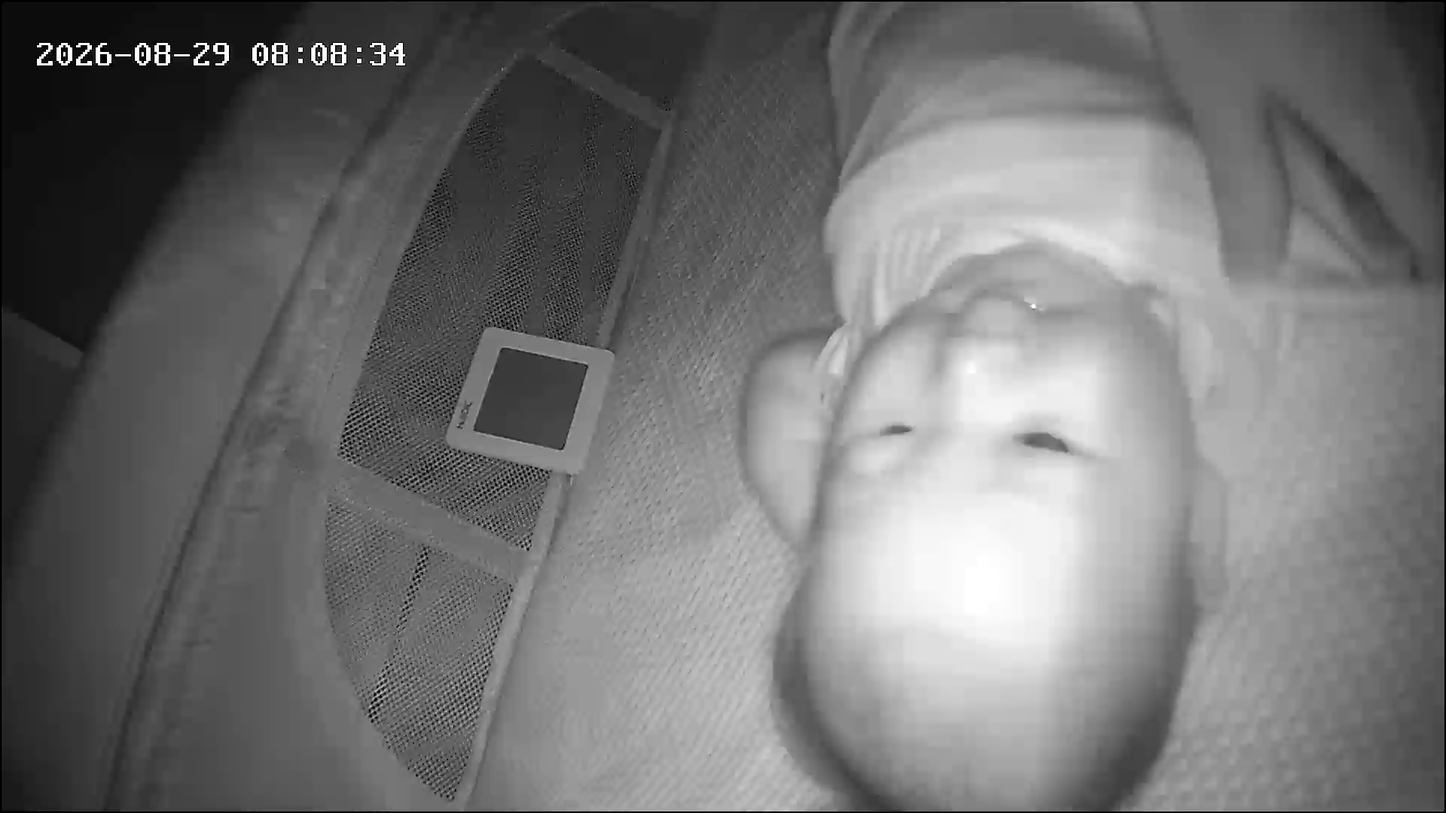baby: (778, 7, 1236, 810)
baby_face: (778, 267, 1224, 813)
